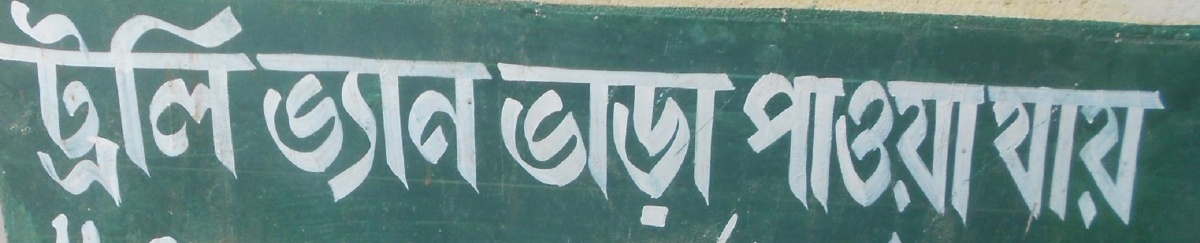text: (17, 4, 32, 213), (33, 4, 48, 213), (49, 4, 64, 213), (65, 4, 80, 213), (81, 4, 96, 213), (97, 4, 112, 213), (113, 4, 128, 213), (129, 4, 144, 213), (145, 4, 160, 213), (161, 4, 176, 213), (177, 4, 192, 213), (193, 4, 208, 213), (209, 4, 224, 213), (225, 4, 240, 213), (241, 4, 256, 213), (2, 4, 16, 213), (513, 62, 528, 227), (529, 62, 544, 227), (545, 62, 560, 227), (561, 62, 576, 227), (577, 62, 592, 227), (593, 62, 608, 227), (609, 62, 624, 227), (625, 62, 640, 227), (641, 62, 656, 227), (657, 62, 672, 227), (673, 62, 688, 227), (689, 62, 704, 227), (705, 62, 720, 227), (721, 62, 736, 227), (498, 62, 512, 227), (753, 71, 768, 224), (769, 71, 784, 224), (785, 71, 800, 224), (801, 71, 816, 224), (817, 71, 832, 224), (833, 71, 848, 224), (849, 71, 864, 224), (865, 71, 880, 224), (881, 71, 896, 224), (897, 71, 912, 224), (913, 71, 928, 224), (929, 71, 944, 224), (945, 71, 960, 224), (961, 71, 976, 224), (1153, 86, 1169, 229), (257, 51, 272, 201), (273, 51, 288, 201), (289, 51, 304, 201), (305, 51, 320, 201), (321, 51, 336, 201), (337, 51, 352, 201), (353, 51, 368, 201), (369, 51, 384, 201), (385, 51, 400, 201), (401, 51, 416, 201), (417, 51, 432, 201), (433, 51, 448, 201), (449, 51, 464, 201), (465, 51, 480, 201), (481, 51, 496, 201), (993, 86, 1008, 229), (1009, 86, 1024, 229), (1025, 86, 1040, 229), (1041, 86, 1056, 229), (1057, 86, 1072, 229), (1073, 86, 1088, 229), (1089, 86, 1104, 229), (1105, 86, 1120, 229), (1121, 86, 1136, 229), (1137, 86, 1152, 229), (742, 71, 752, 224), (977, 71, 985, 224), (49, 207, 64, 243), (65, 207, 80, 243), (81, 207, 96, 243), (97, 207, 112, 243), (113, 207, 128, 243), (129, 207, 144, 243), (145, 207, 160, 243), (161, 207, 176, 243), (721, 211, 736, 243), (737, 211, 752, 243), (753, 211, 768, 243), (769, 211, 784, 243), (785, 211, 800, 243), (801, 211, 816, 243), (817, 211, 832, 243), (833, 211, 848, 243), (849, 211, 864, 243), (865, 211, 880, 243), (881, 211, 896, 243), (897, 211, 912, 243), (177, 207, 189, 243), (39, 207, 48, 243), (990, 86, 992, 229), (713, 211, 720, 243), (257, 4, 258, 213), (913, 211, 916, 243)
